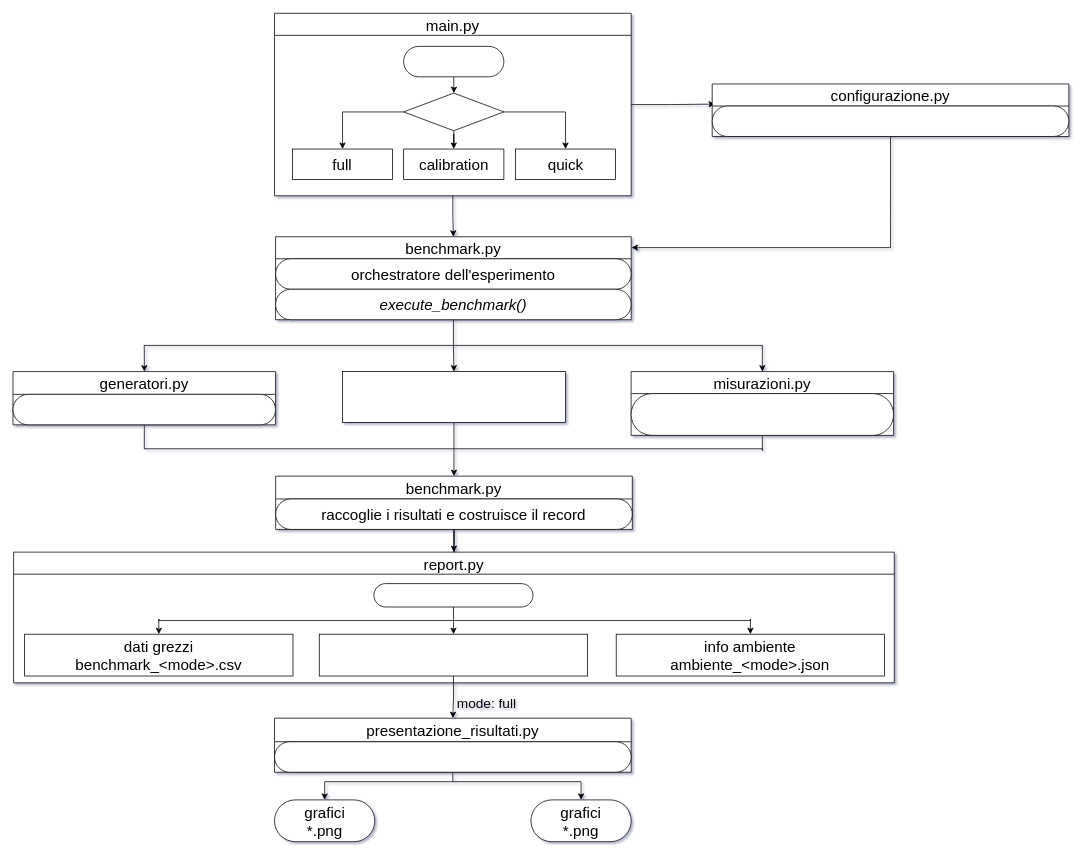
Image size: 1088x860. Some labels were removed from this diagram. The centre of each missing label's shape, as x and y in pixels:
"aggrega e salva" goes at pixel 453 595.
"dati aggregati benchmark_<mode>_aggregato.csv" goes at pixel 453 654.
"definisce le configurazioni dell'esperimento" goes at pixel 890 120.
"genera input e target dell'esperimento" goes at pixel 144 409.
"legge i dati aggregati e genera gli output" goes at pixel 452 756.
"Lettura CLI" goes at pixel 453 61.
"modalità" goes at pixel 453 111.
"strutture/ BST, AVL, Linked List" goes at pixel 453 396.
"temporizza le operazioni e calcola le metriche" goes at pixel 762 414.
